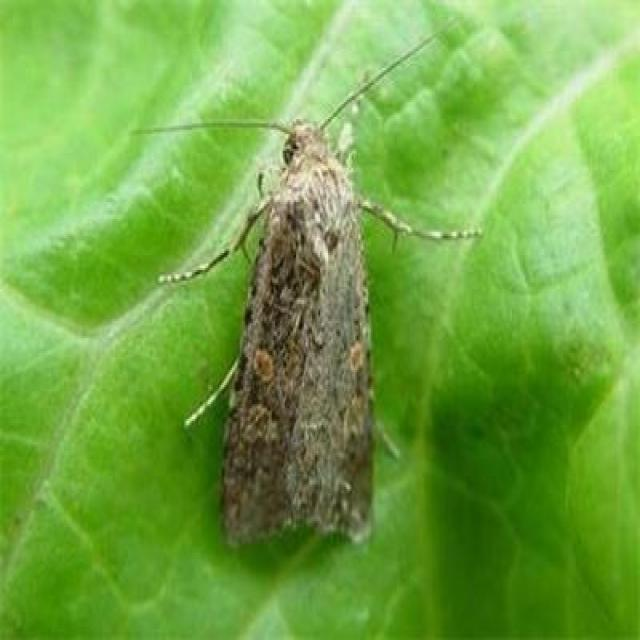BeetArmyWorm-Adult-: (110, 44, 464, 571)
